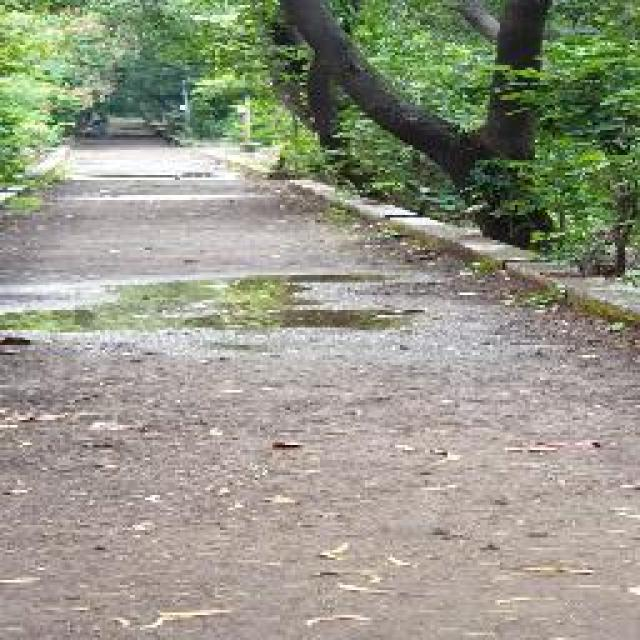puddle: (1, 273, 402, 335)
